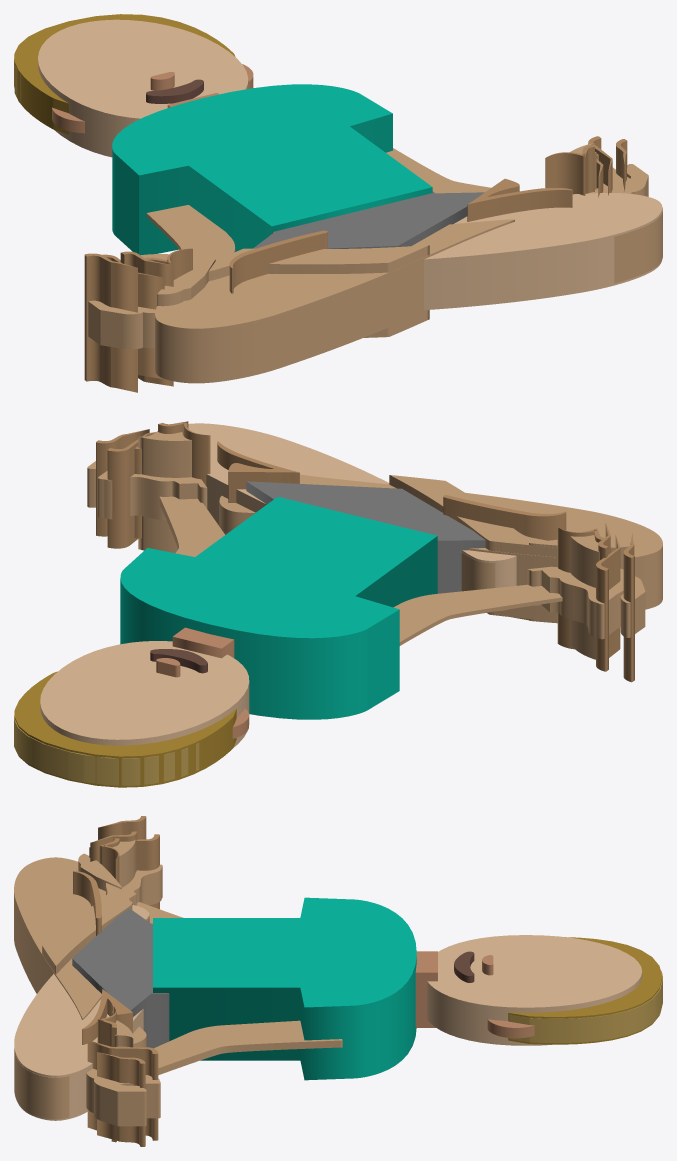
File: emoji_u1f9d8_1f3fc_200d_2642.glb
The picture shows the model from 3 angles, top to bottom: view 1: azimuth 30°, elevation 25°; view 2: azimuth 150°, elevation 25°; view 3: azimuth 270°, elevation 25°; orthographic projection. The views are drawn at different scales.
Parts seen in each view (by area): view 1: emoji_u1f9d8_1f3fc_200d_2642; view 2: emoji_u1f9d8_1f3fc_200d_2642; view 3: emoji_u1f9d8_1f3fc_200d_2642.
Part boxes in pixels (x1,y1,x2,y2): emoji_u1f9d8_1f3fc_200d_2642: [14, 14, 662, 392]; emoji_u1f9d8_1f3fc_200d_2642: [14, 421, 662, 787]; emoji_u1f9d8_1f3fc_200d_2642: [14, 816, 662, 1146].
Size of the model in its own units: 0.0294 by 0.0066 by 0.0339.
